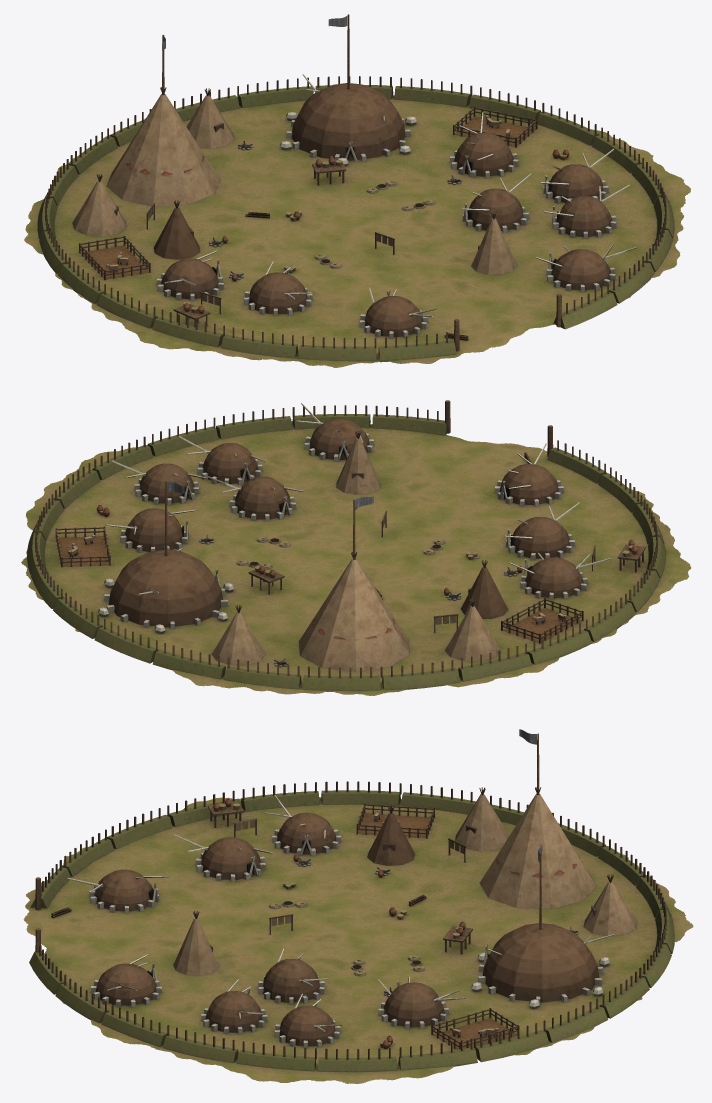
The model's file is stone-town-medium-b-steppe.glb.
The picture shows the model from 3 angles, top to bottom: view 1: azimuth 30°, elevation 25°; view 2: azimuth 150°, elevation 25°; view 3: azimuth 270°, elevation 25°; orthographic projection. The views are drawn at different scales.
Parts seen in each view (by area): view 1: LOD0; view 2: LOD0; view 3: LOD0.
Boxes of the visible parts, bbox=[...] form: LOD0: bbox=[24, 14, 690, 367]; LOD0: bbox=[21, 400, 691, 695]; LOD0: bbox=[23, 729, 693, 1083].
Size of what is drawn, in the model's own units: 5.94 by 1.45 by 5.83.
Materials: 3 (3 with a texture image).
